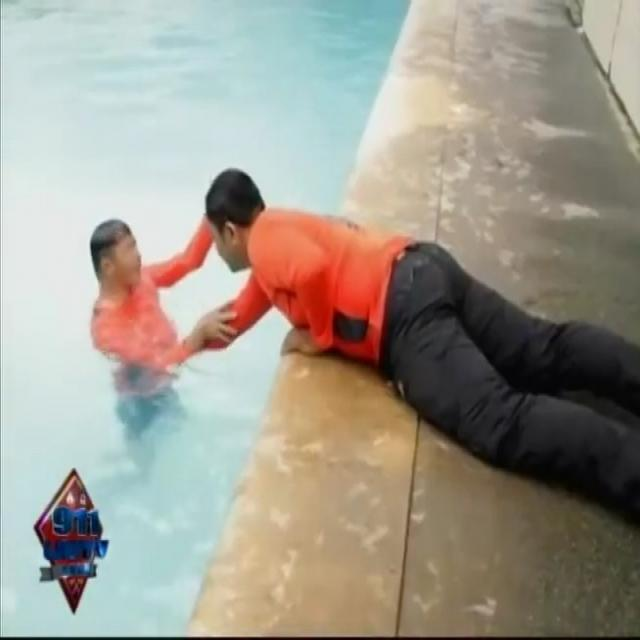drowning: (87, 191, 199, 404)
out of water: (220, 132, 640, 494)
